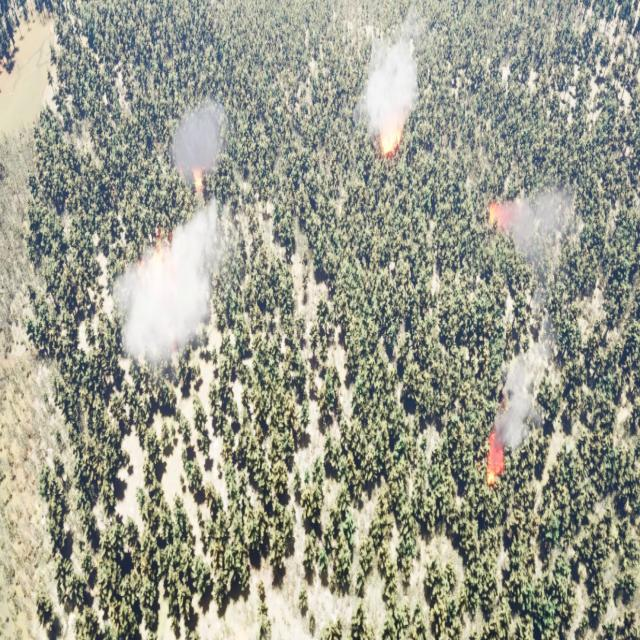fire: (137, 229, 177, 291), (482, 435, 507, 489), (486, 197, 515, 234), (379, 128, 404, 162), (190, 162, 208, 195)
smoke: (110, 99, 227, 383), (361, 9, 420, 154), (496, 340, 555, 464), (501, 179, 575, 260)
